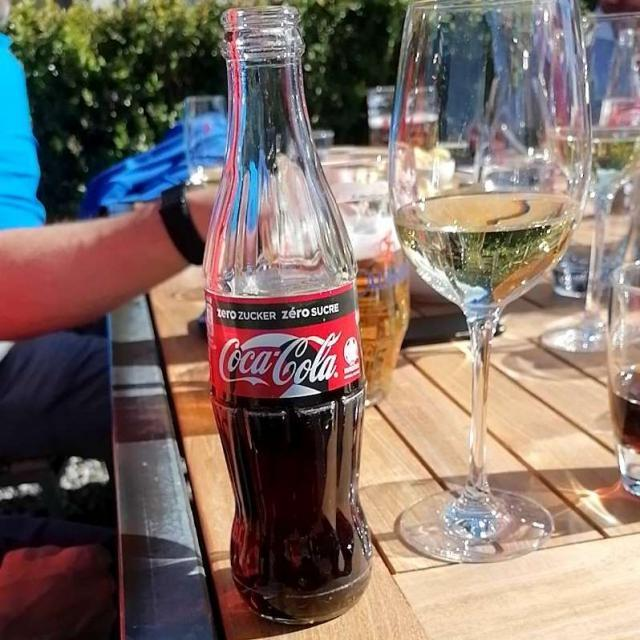coca-cola: (203, 375, 376, 624)
